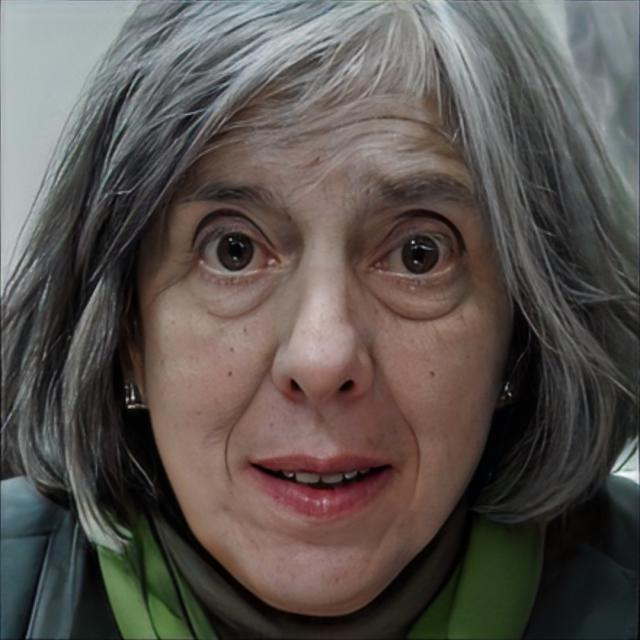fear: (140, 78, 510, 608)
